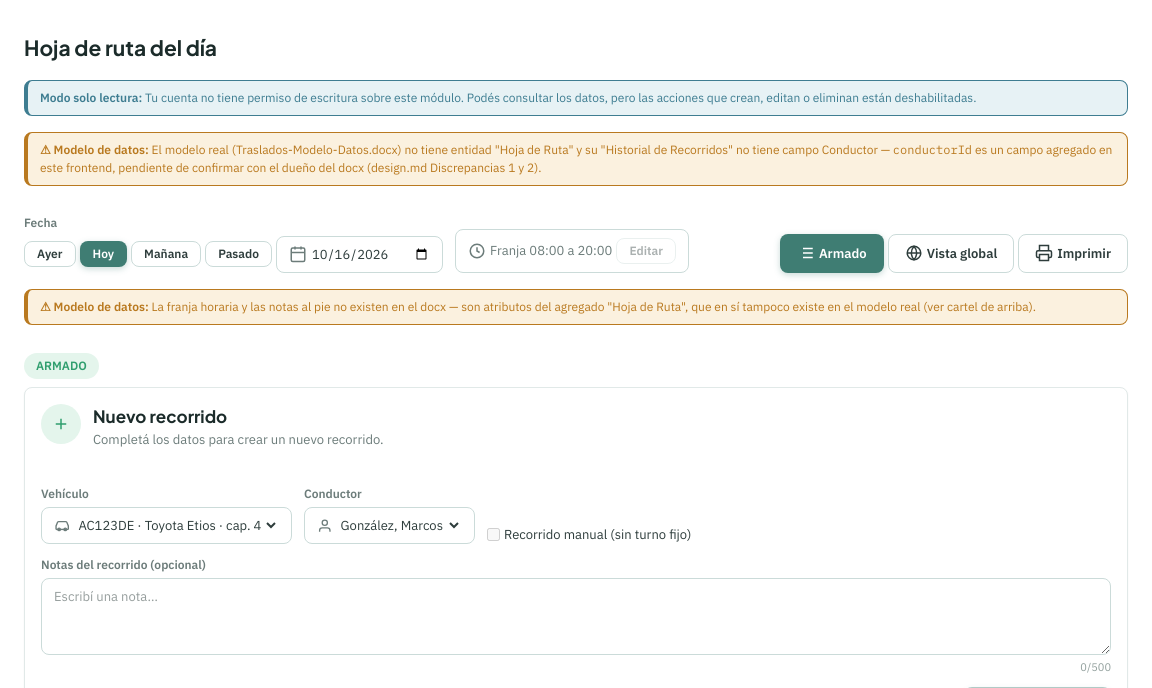
it: HojaDeRutaPage — vistas de solo lectura no se bloquean › sin permiso de escritura: la vista imprimible se renderiza completa y es utilizable
Click the button "Imprimir": (1073, 253) [1018,234,1128,273]
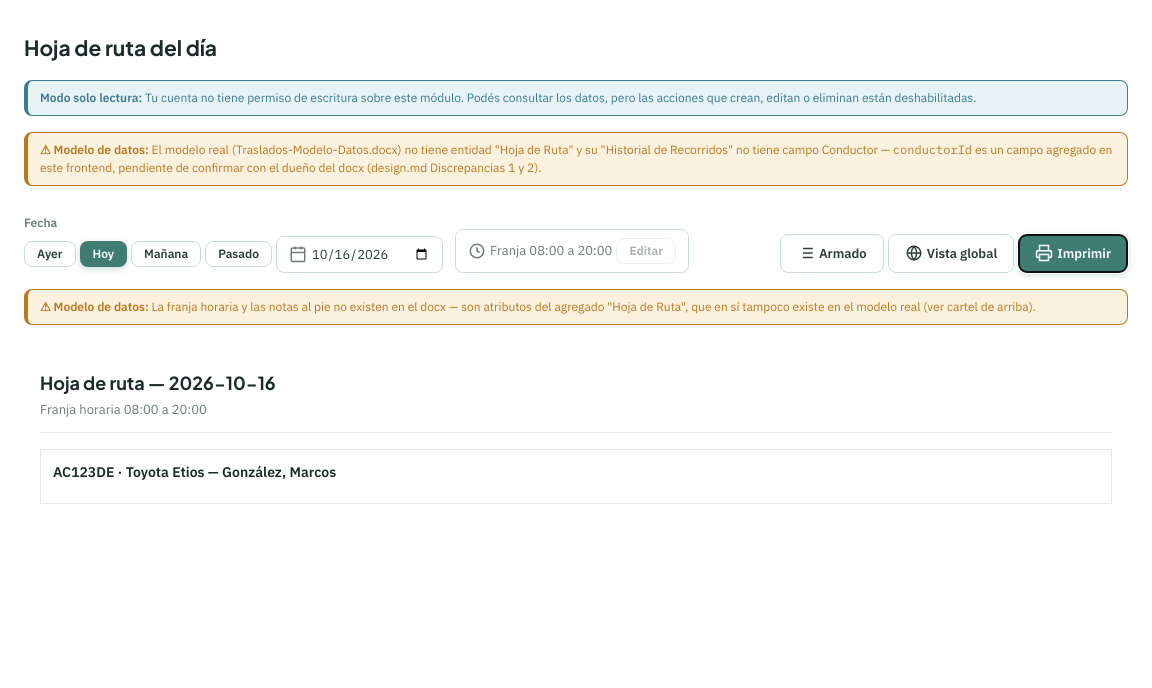
Check: the text "Franja horaria 08:00 a 20:00" is shown, box [40,401,207,418]
